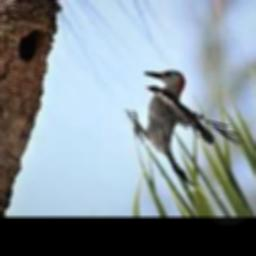Woodpecker: (125, 71, 244, 186)
